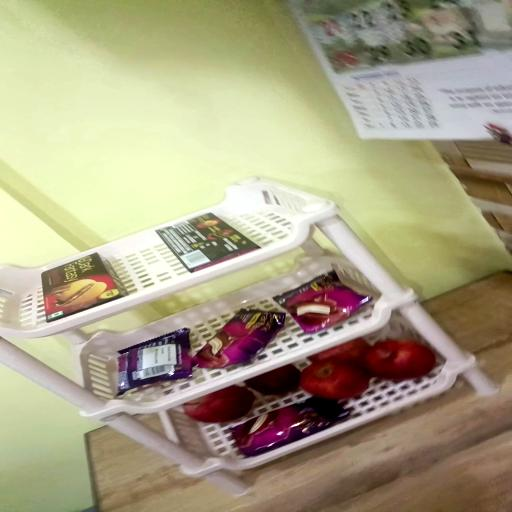Apple: (361, 339, 435, 380), (300, 359, 370, 401), (183, 385, 254, 422), (246, 365, 301, 394), (307, 338, 369, 362)
Choco Fills: (158, 214, 263, 275), (42, 254, 127, 323)
Choco Pie: (235, 397, 349, 456), (274, 271, 372, 335), (194, 310, 286, 369), (115, 329, 191, 396)
